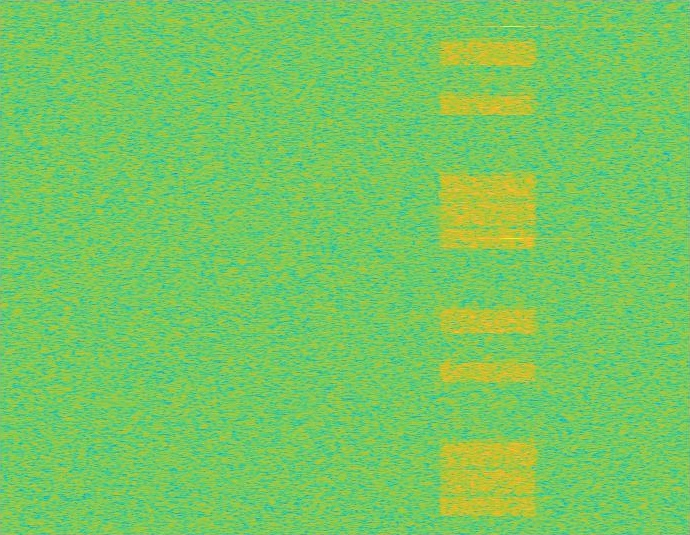LTE: (436, 0, 540, 534)
Radar: (505, 0, 519, 534)
